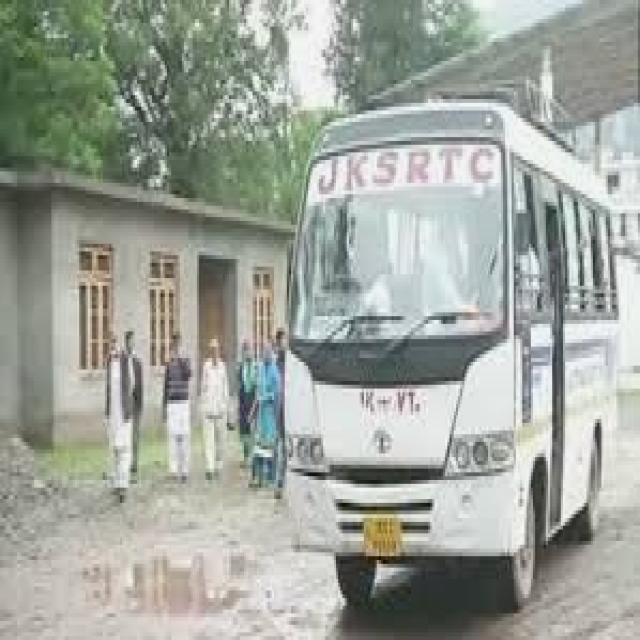bus: (262, 74, 640, 619)
